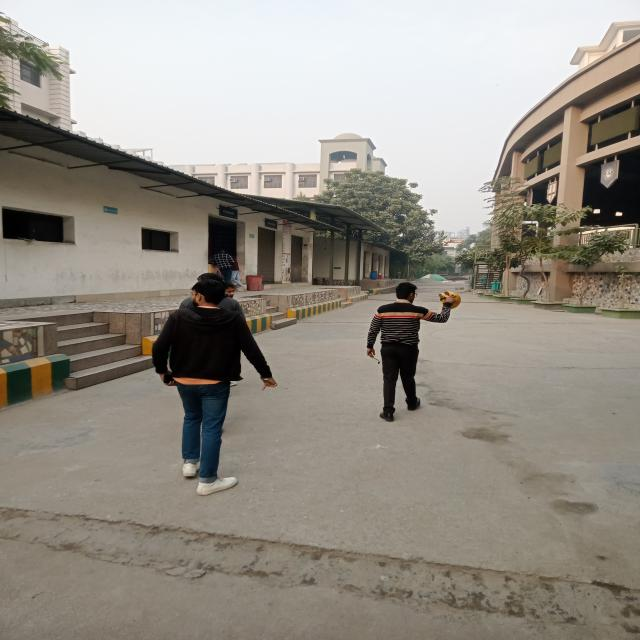unsafe: (151, 278, 269, 494), (365, 282, 462, 419), (212, 248, 234, 285)
